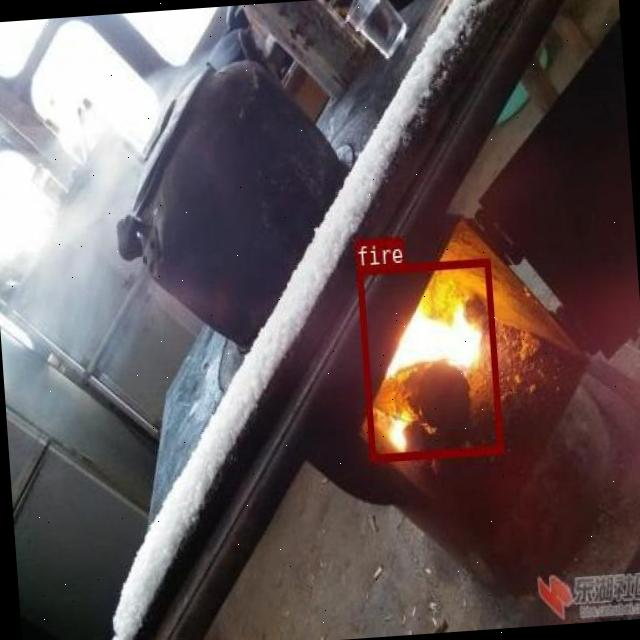fire: (356, 256, 502, 461)
